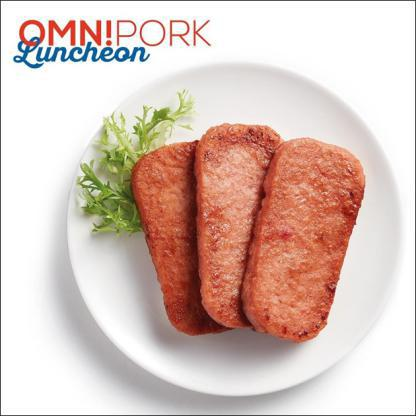spam: (135, 115, 353, 345)
